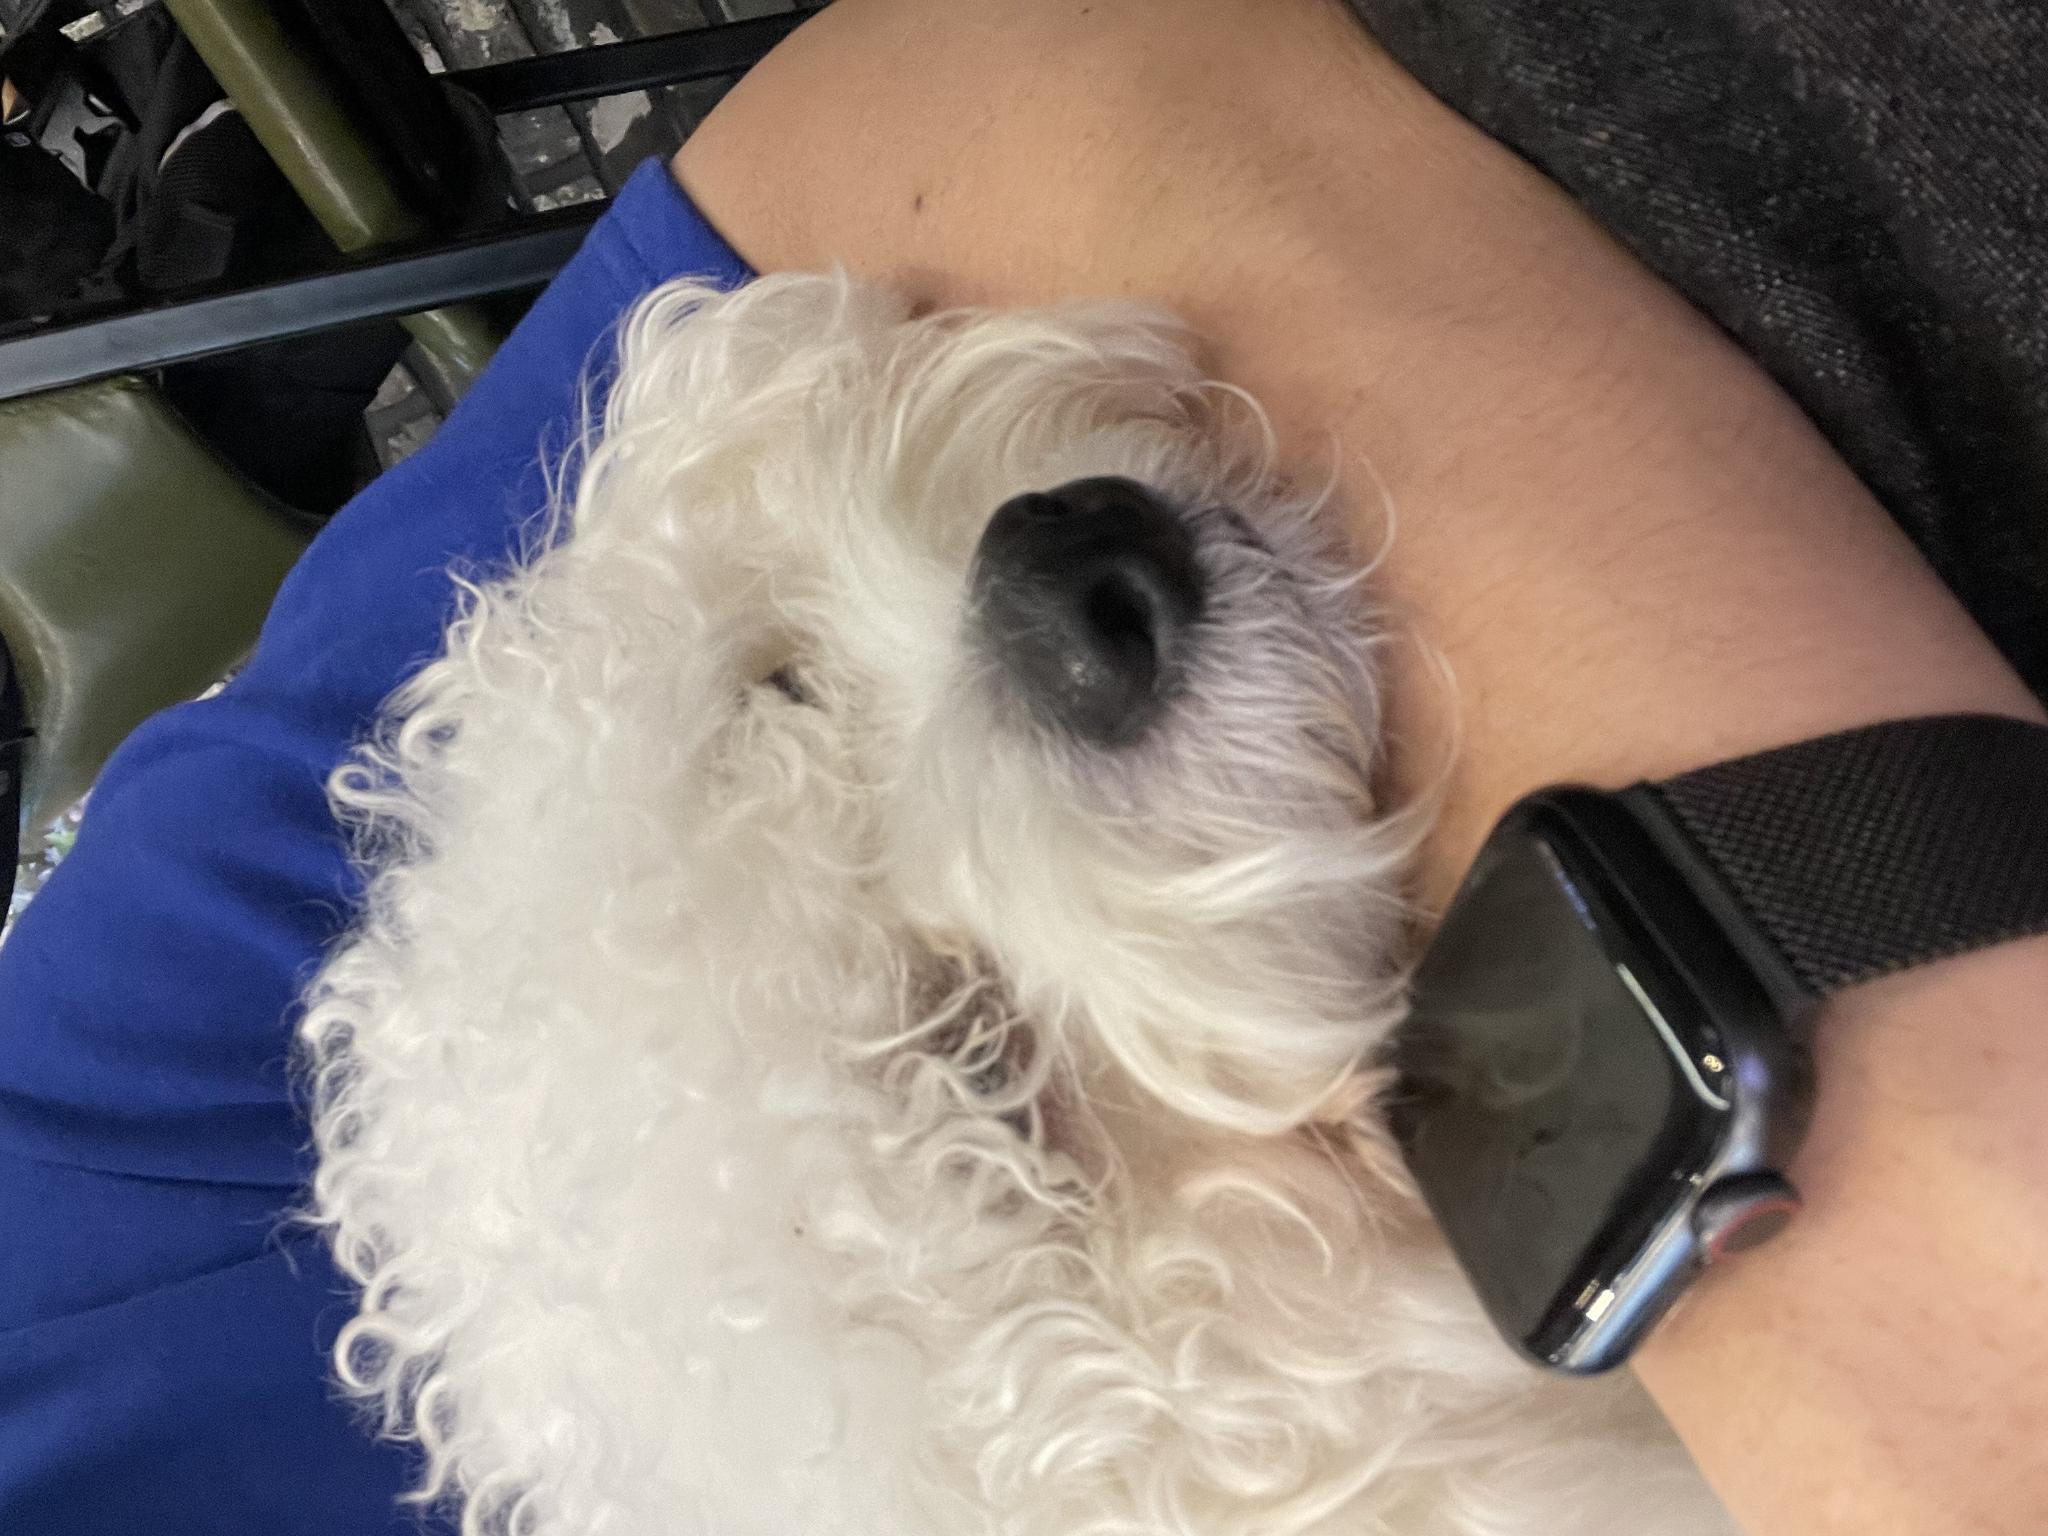dog: (2, 265, 1272, 1536)
